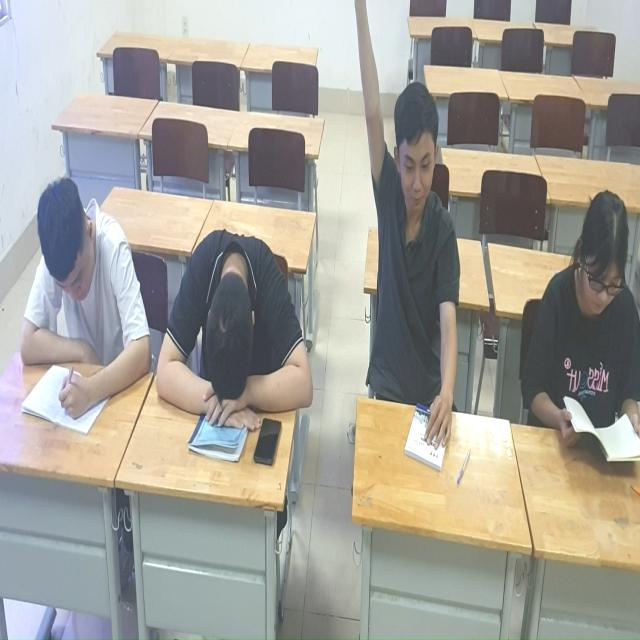raise_hand: (350, 1, 465, 447)
read: (514, 187, 640, 485), (19, 165, 158, 429)
sleep: (164, 212, 314, 439)
